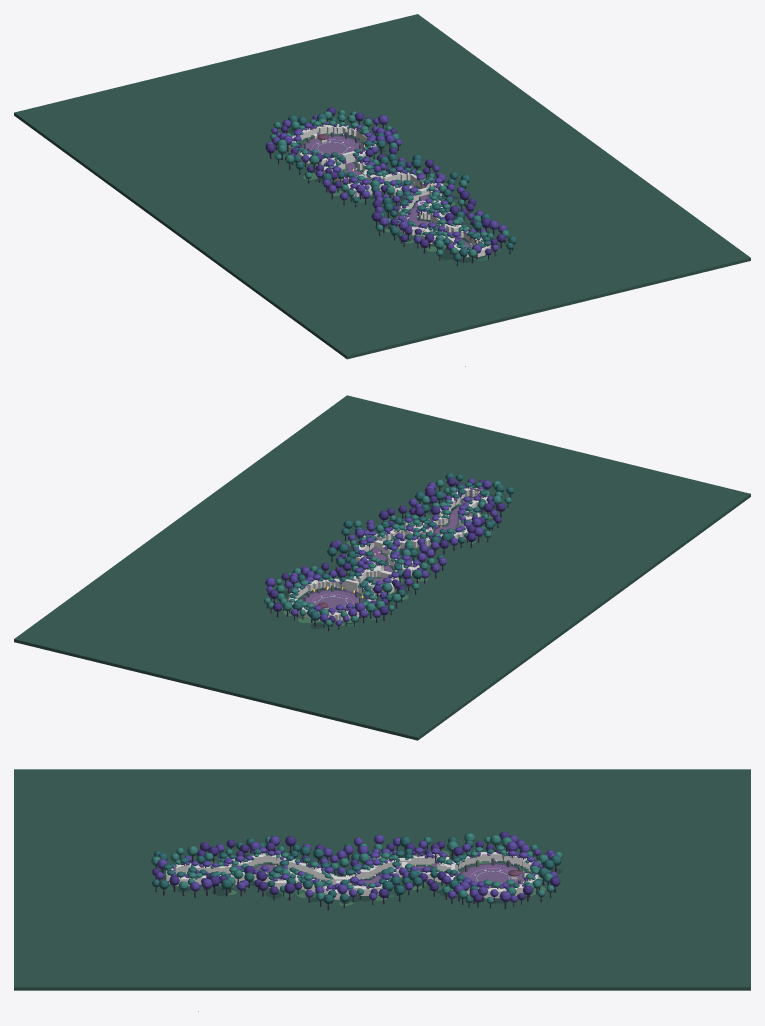
The model's file is World02.glb.
The picture shows the model from 3 angles, top to bottom: view 1: azimuth 30°, elevation 25°; view 2: azimuth 150°, elevation 25°; view 3: azimuth 270°, elevation 25°; orthographic projection. The views are drawn at different scales.
Visible parts, largest first — view 1: Ground, TreesFar, Trees, Ground_Patches, ArenaFloor; view 2: Ground, TreesFar, Trees, Ground_Patches, ArenaFloor; view 3: Ground, TreesFar, Trees, Ground_Patches, ArenaFloor.
Boxes of the visible parts, x1,y1,x2,y2 form: Ground: (14, 14, 750, 359); TreesFar: (265, 107, 516, 265); Trees: (290, 118, 490, 250); Ground_Patches: (274, 128, 501, 262); ArenaFloor: (301, 135, 363, 158); Ground: (14, 395, 750, 740); TreesFar: (263, 473, 514, 631); Trees: (288, 482, 490, 614); Ground_Patches: (282, 491, 502, 629); ArenaFloor: (302, 589, 363, 612); Ground: (14, 769, 750, 990); TreesFar: (151, 831, 562, 910); Trees: (163, 845, 542, 891); Ground_Patches: (154, 850, 562, 905); ArenaFloor: (459, 863, 527, 887).
Size of the model in its own units: 140 by 45.13 by 200.
1 material, 1 textured.
